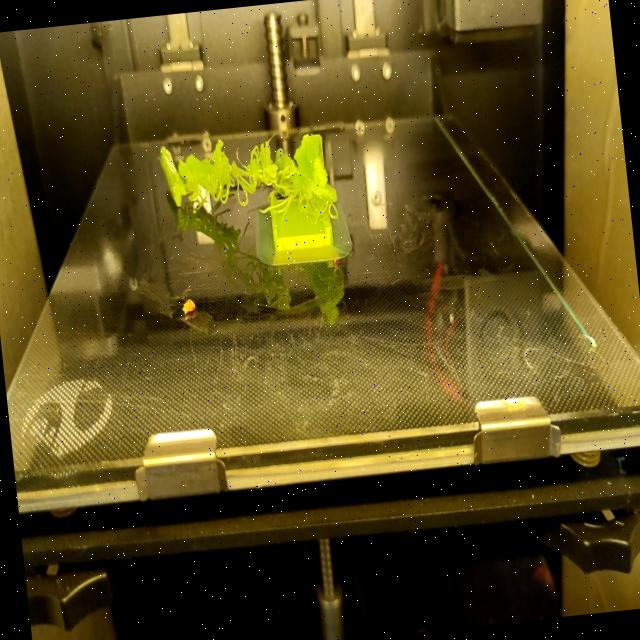spaghetti: (178, 122, 340, 227)
